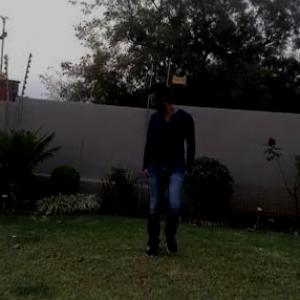follow: (133, 77, 195, 274)
